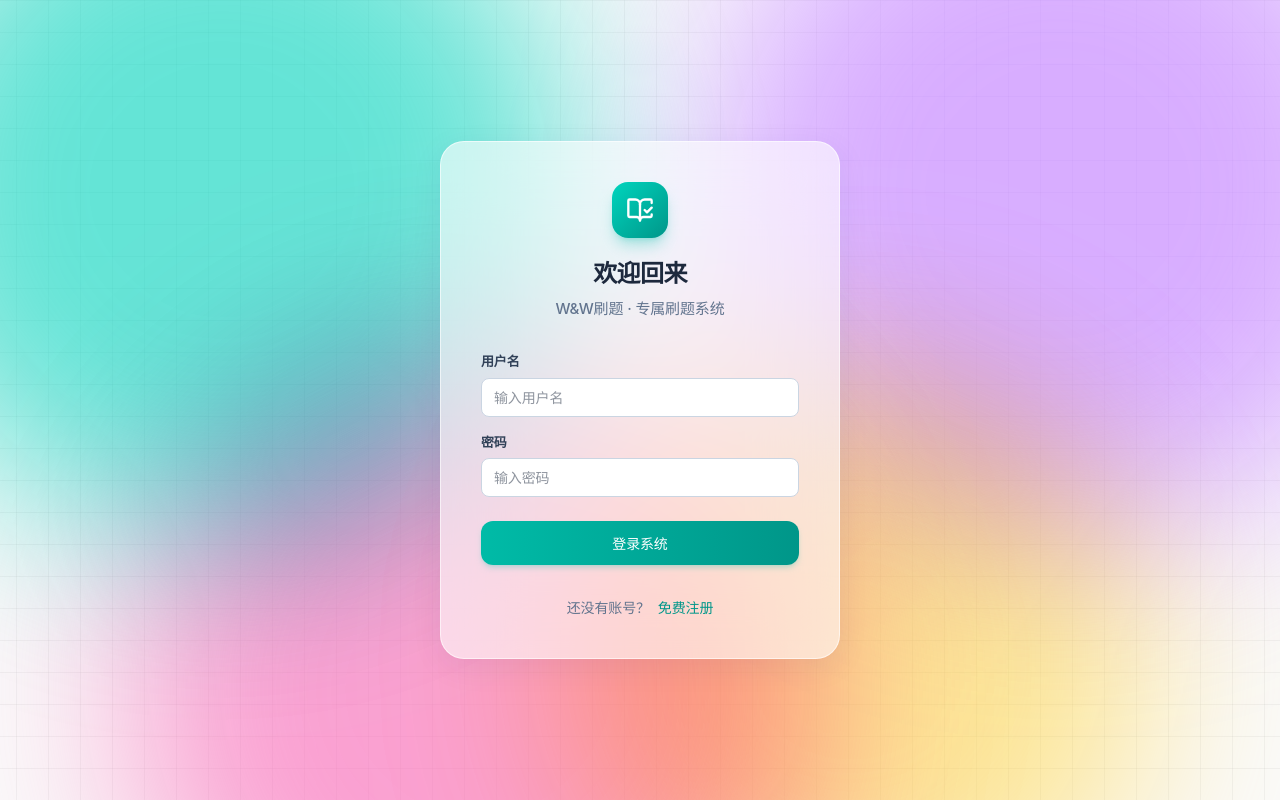
Test: AuthPage › switches between login and registration modes
The image size is (1280, 800).
Check: the heading "欢迎回来" is shown, box [593,258,687,290]
Check: the field labelled "用户名" is shown, box [481,378,799,417]
Click the button "免费注册" at {"x": 686, "y": 608}, box [654,597,717,618]
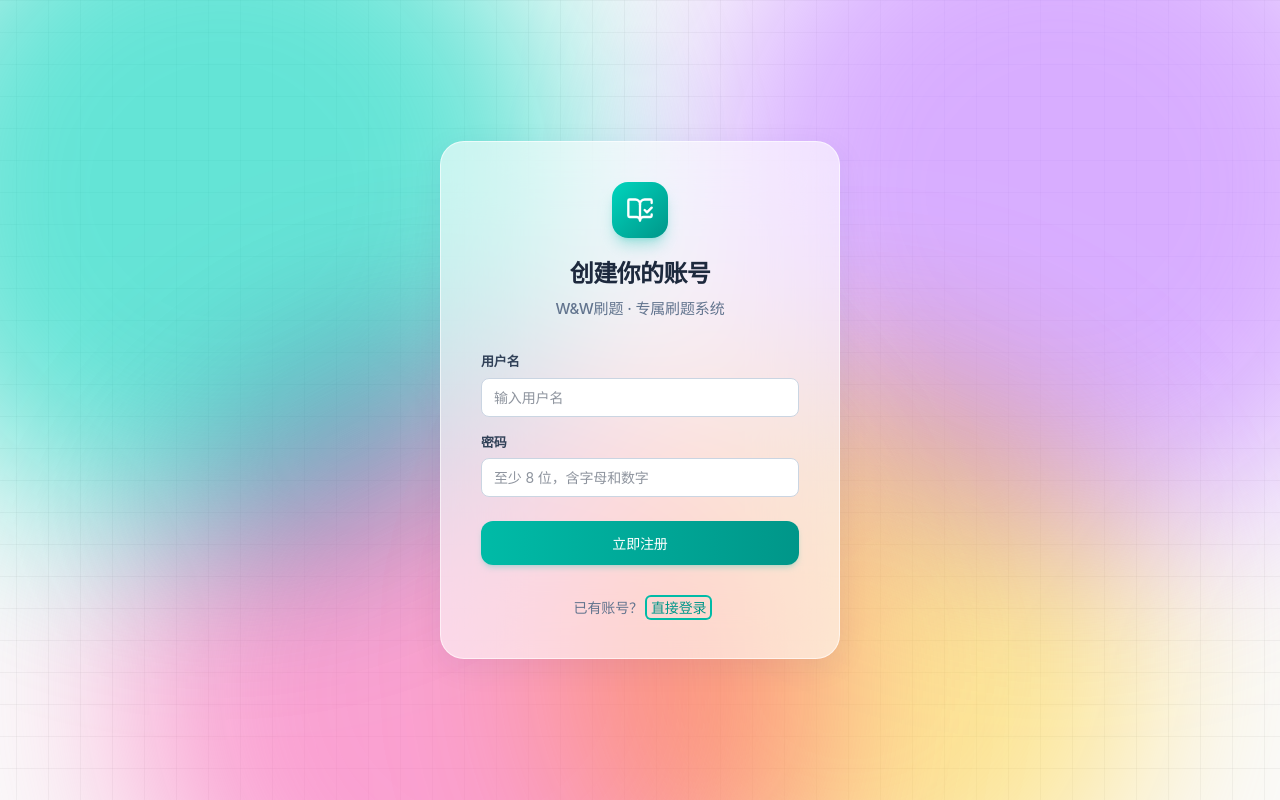
Check: the field labelled "用户名" is shown, box [481,378,799,417]
Check: the heading "创建你的账号" is shown, box [570,258,710,290]
Check: the button "立即注册" is shown, box [481,521,799,565]
